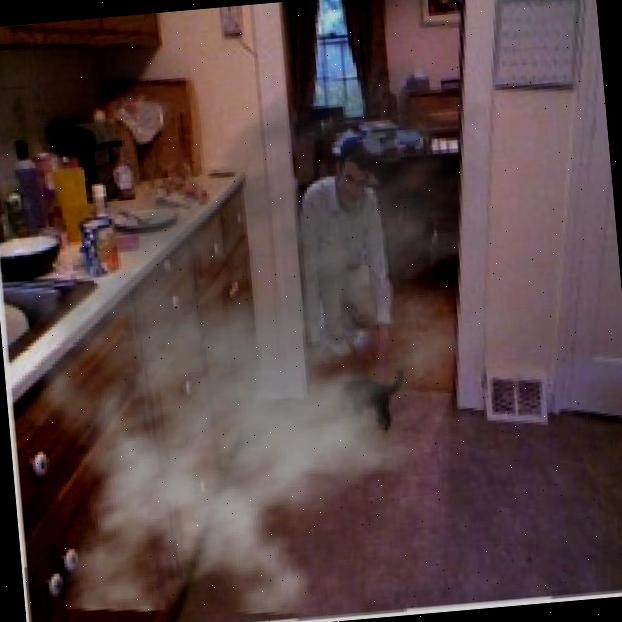smoke: (0, 40, 588, 622)
